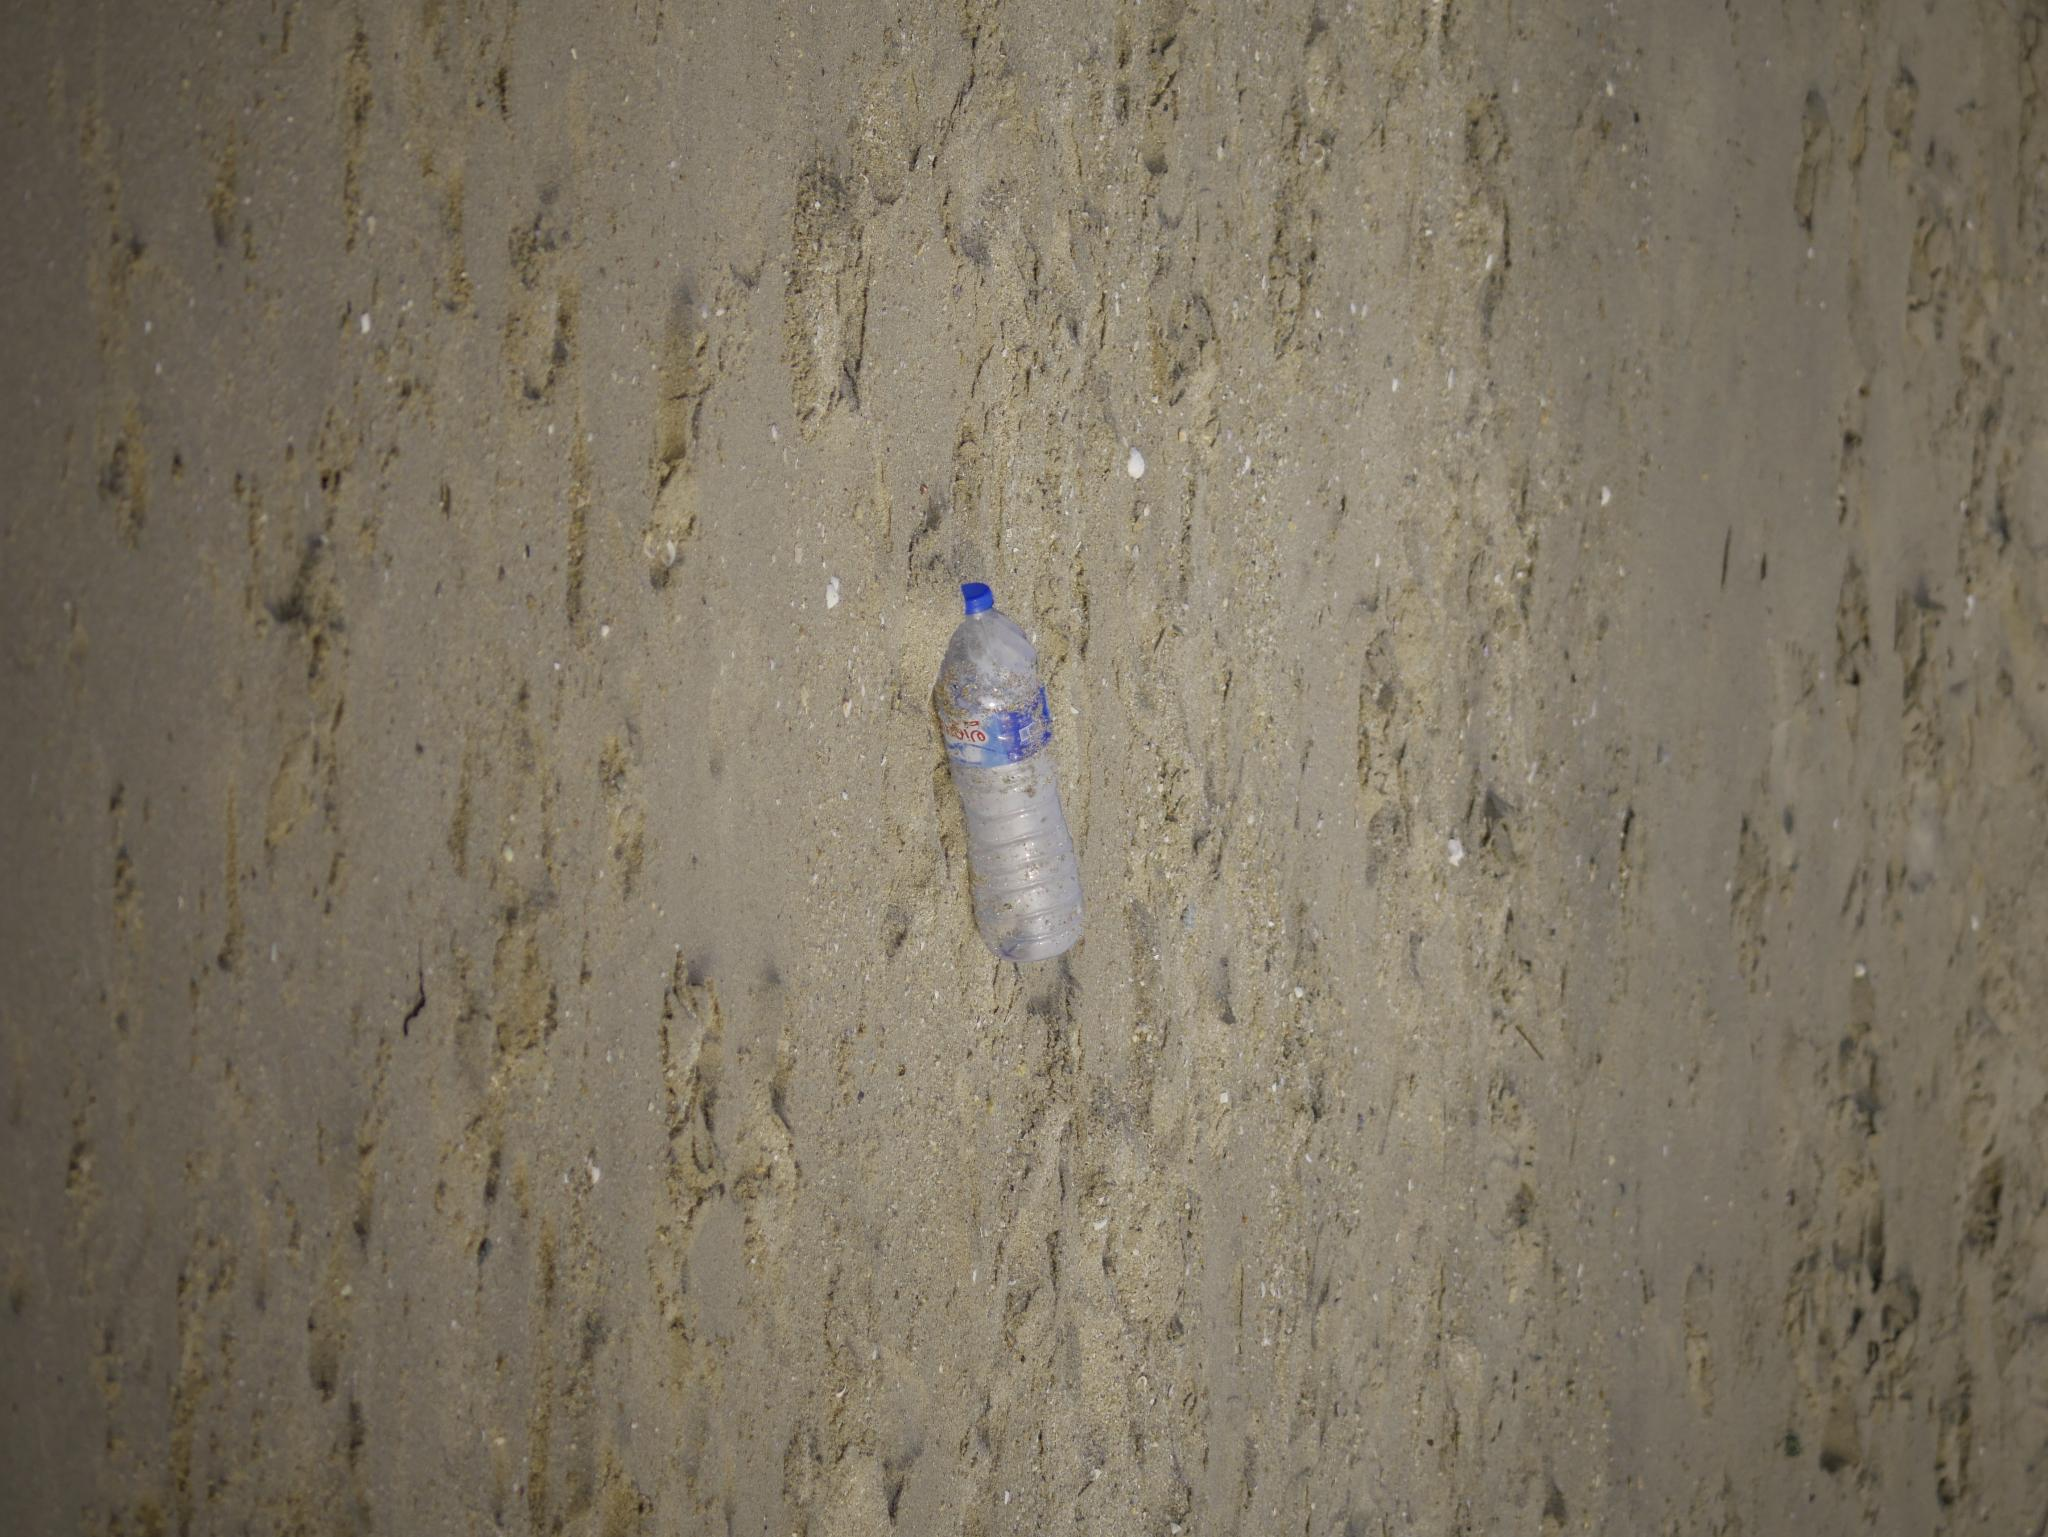Plastic: (549, 383, 991, 622)
